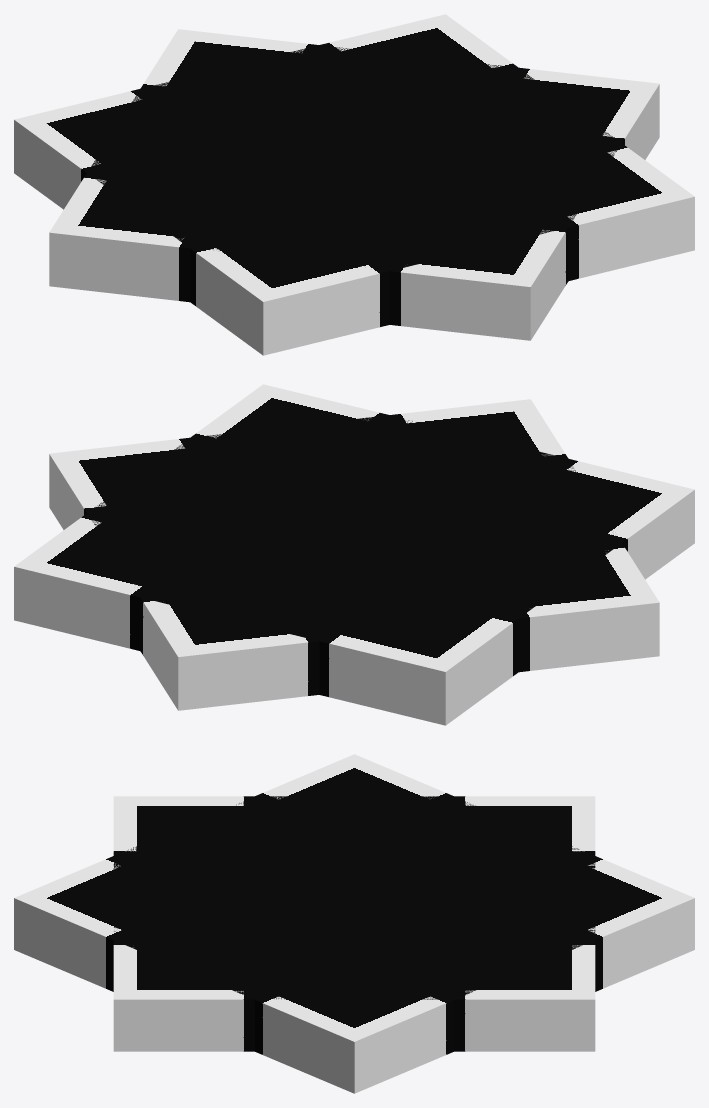
Rendered from POINT.fbx.
3 views of the same model, one above another, from view 1: azimuth 30°, elevation 25°; view 2: azimuth 150°, elevation 25°; view 3: azimuth 270°, elevation 25° (orthographic). The views are drawn at different scales.
Visible parts, largest first — view 1: Cube; view 2: Cube; view 3: Cube.
Boxes of the visible parts, bbox=[...] form: Cube: bbox=[14, 14, 694, 355]; Cube: bbox=[14, 384, 694, 725]; Cube: bbox=[14, 754, 694, 1093].
Bounding box in the file's own units: 143 × 143 × 11.98.
Materials: 1 (1 with a texture image).
